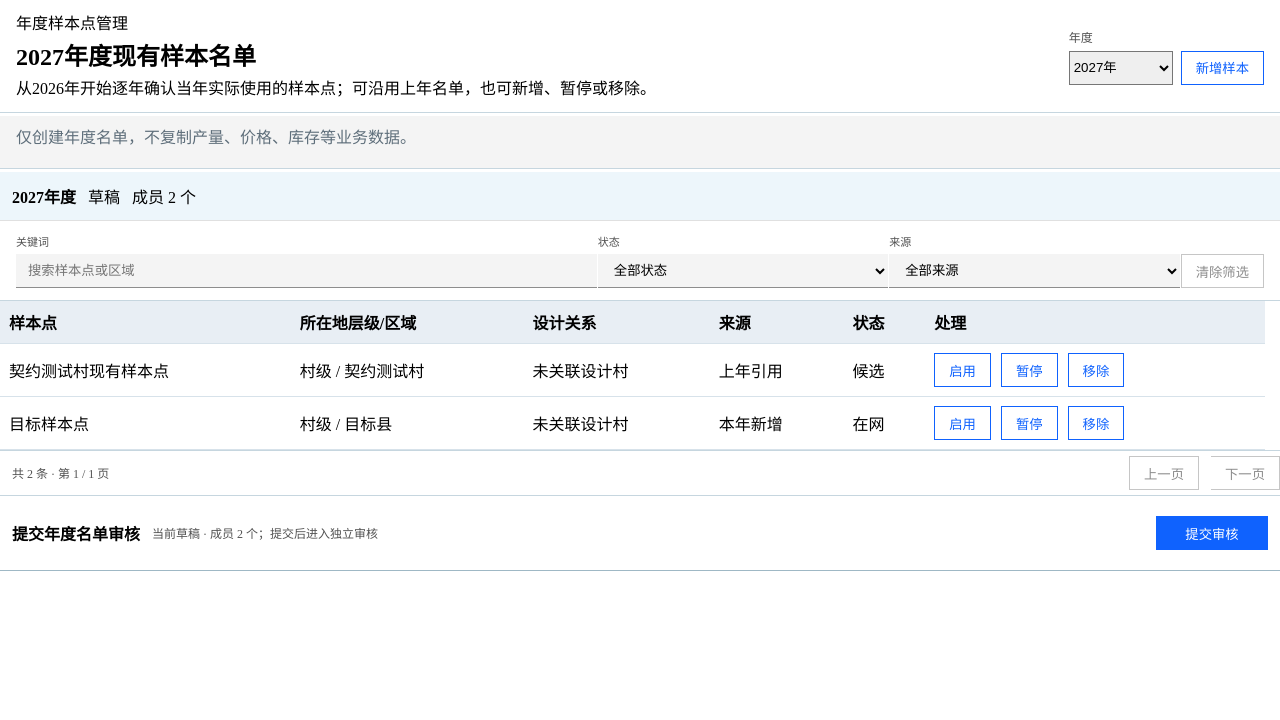
AnnualSampleNetworkPanel › keeps annual filters focused and expands the add form only on demand
The image size is (1280, 720).
Expected: the dropdown named "成员状态" is shown, left=598, top=254, right=888, bottom=288
Expected: the dropdown named "成员来源" is shown, left=889, top=254, right=1180, bottom=288
In the search field named "搜索样本点或区域": (306, 271) left=16, top=254, right=597, bottom=288, type "目标样本点"
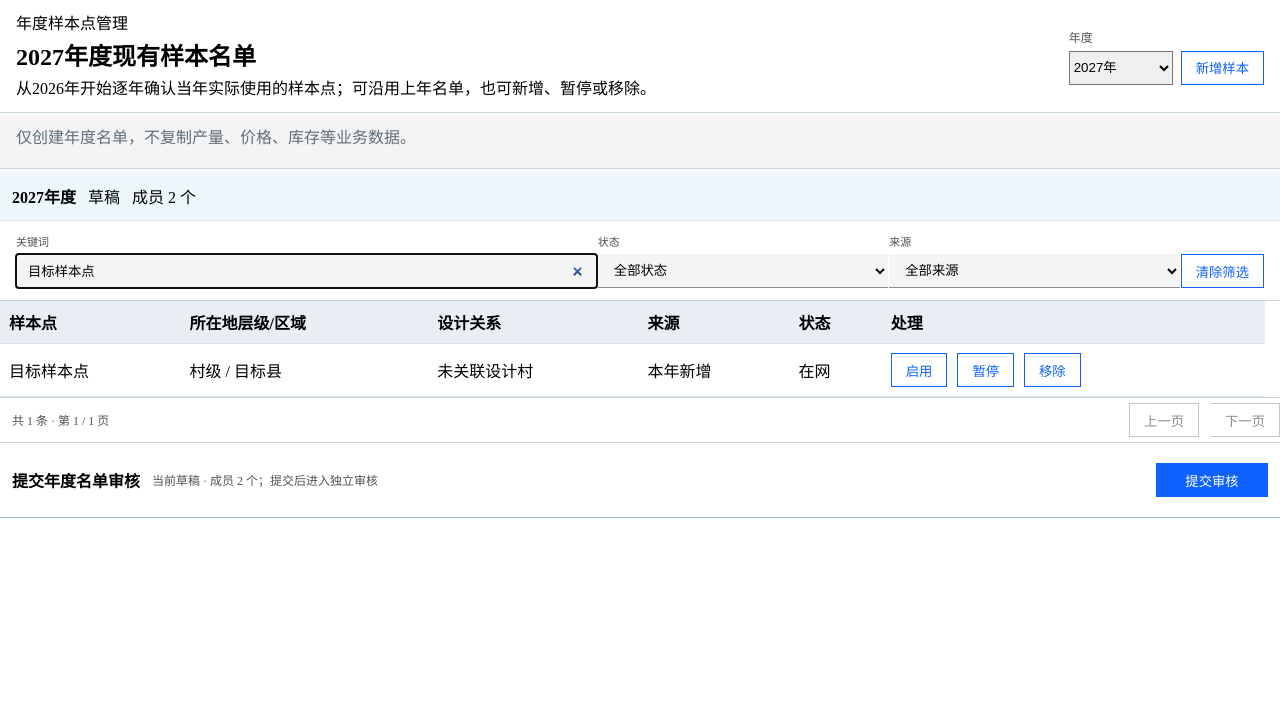
Expected: the text "目标样本点" is shown, left=0, top=344, right=181, bottom=396
Now the text "契约测试村现有样本点" is gone
Now the text "共 1 条 · 第 1 / 1 页" is shown, box left=12, top=411, right=109, bottom=429
Click the button "新增样本": (1222, 68) left=1181, top=50, right=1264, bottom=84
(page scrolled)
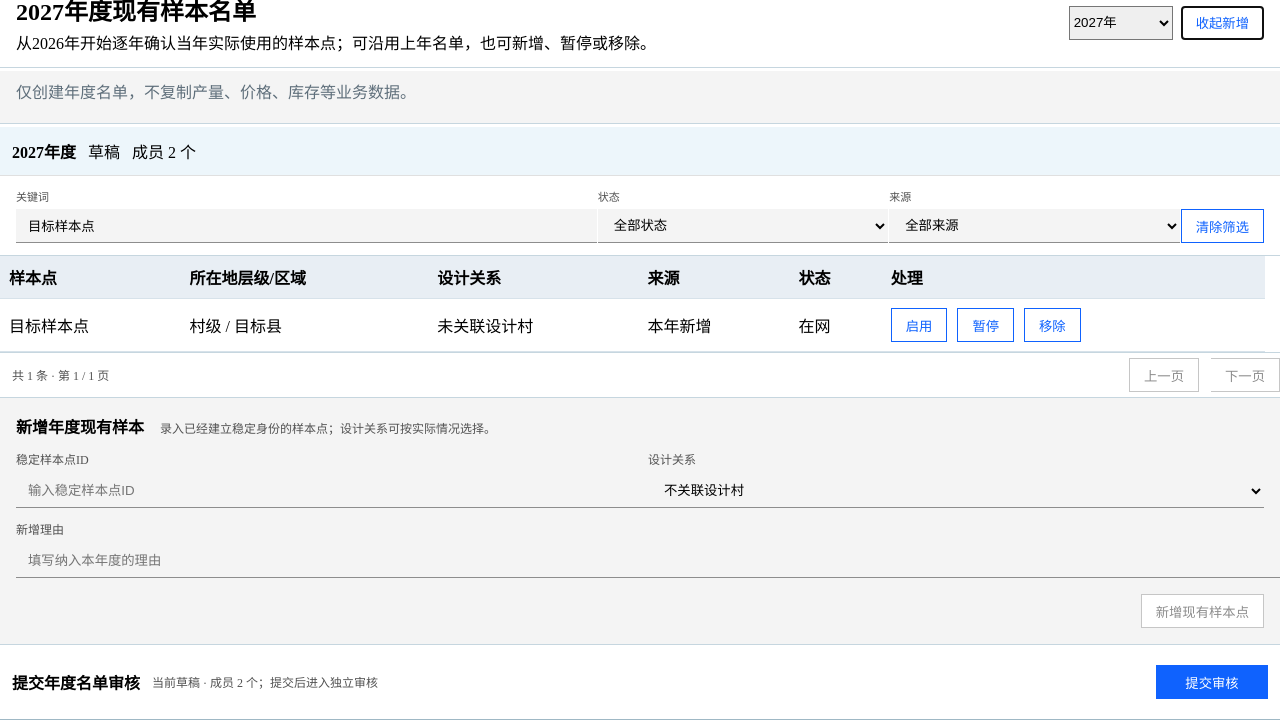
Expected: the element named "年度样本提交操作" shows "当前草稿 · 成员 2 个；提交后进入独立审核", left=0, top=645, right=1279, bottom=719
Now the element named "新增年度样本点" is shown, box left=0, top=398, right=1279, bottom=645
